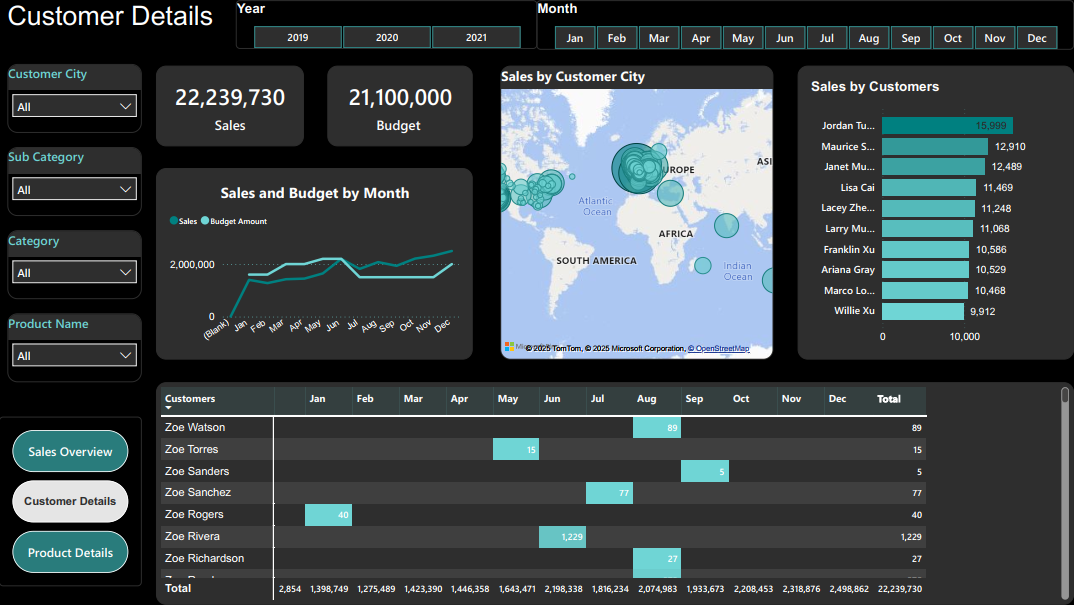

Layout of this report page (visuals, bound fields, positions):
{"tool":"powerbi","page":{"name":"Customer Details","canvas":[1280,720],"ordinal":1},"visuals":[{"type":"textbox","box":[10.1,0,1269.9,58.8],"z":0},{"type":"slicer","title":"Year","fields":{"Values":["DIM_Calendar.Year"]},"box":[282.1,0,358.6,58.1],"z":1000},{"type":"slicer","title":"Month","fields":{"Values":["DIM_Calendar.MonthShort"]},"box":[640,0,640,58.8],"z":2000},{"type":"pivotTable","fields":{"Rows":["DIM_Customers.Full Name"],"Values":["Key Measures.Sales"],"Columns":["DIM_Calendar.MonthShort"]},"box":[187.1,455,1092.8,265],"z":3000},{"type":"card","fields":{"Values":["Key Measures.Sales"]},"box":[187.1,78,175.8,96.4],"z":4000},{"type":"card","fields":{"Values":["Key Measures.Budget Amount"]},"box":[391.2,78,172.9,96.4],"z":5000},{"type":"lineChart","title":"Sales and Budget  by Month","fields":{"Category":["DIM_Calendar.MonthShort"],"Y":["Key Measures.Sales","Key Measures.Budget Amount"]},"box":[187.1,199.8,377,228.2],"z":6000},{"type":"barChart","fields":{"Category":["DIM_Customers.Full Name"],"Y":["Key Measures.Sales"]},"box":[951,78,328.8,350.1],"z":7000},{"type":"map","fields":{"Category":["DIM_Customers.Customer City"],"Size":["Key Measures.Sales"]},"box":[596.7,78,324.6,350.1],"z":8000},{"type":"slicer","title":"Customer City","fields":{"Values":["DIM_Customers.Customer City"]},"box":[10.1,75.6,159.6,82.3],"z":9000},{"type":"slicer","title":"Sub Category","fields":{"Values":["DIM_Products.Sub Category"]},"box":[10.1,174.7,159.6,82.3],"z":10000},{"type":"slicer","title":"Category","fields":{"Values":["DIM_Products.Product Category"]},"box":[10.1,273.8,159.6,82.3],"z":11000},{"type":"slicer","title":"Product Name","fields":{"Values":["DIM_Products.Product Name"]},"box":[10.1,372.9,159.6,82.3],"z":12000},{"type":"pageNavigator","box":[0,495.5,169.7,201.6],"z":12001}]}

Visuals, with their boxes in screenshot pixels (x1, y1, x2, y2), scaled from the page's 1280x720 canvas onto the 1074x605 screenshot:
textbox: (8, 0, 1073, 49)
"Year" slicer: (237, 0, 538, 49)
"Month" slicer: (537, 0, 1073, 49)
pivotTable - DIM_Customers.Full Name x Key Measures.Sales: (157, 382, 1073, 604)
card - Key Measures.Sales: (157, 66, 304, 147)
card - Key Measures.Budget Amount: (328, 66, 473, 147)
"Sales and Budget  by Month" lineChart: (157, 168, 473, 360)
barChart - DIM_Customers.Full Name x Key Measures.Sales: (798, 66, 1073, 360)
map - DIM_Customers.Customer City x Key Measures.Sales: (501, 66, 773, 360)
"Customer City" slicer: (8, 64, 142, 133)
"Sub Category" slicer: (8, 147, 142, 216)
"Category" slicer: (8, 230, 142, 299)
"Product Name" slicer: (8, 313, 142, 382)
pageNavigator: (0, 416, 142, 586)
